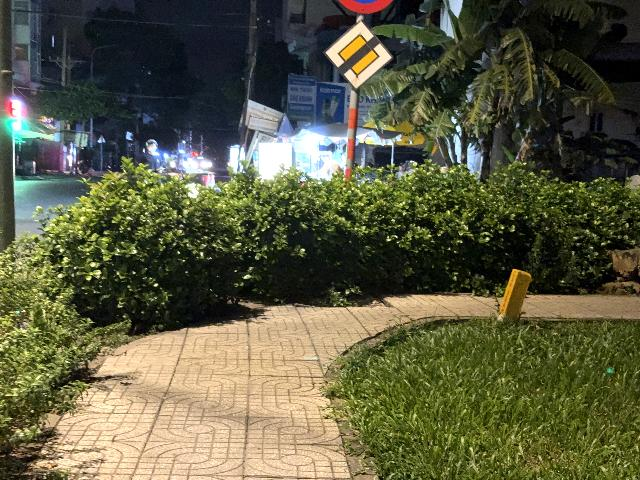het-duong-uu-tien: (322, 19, 395, 92)
